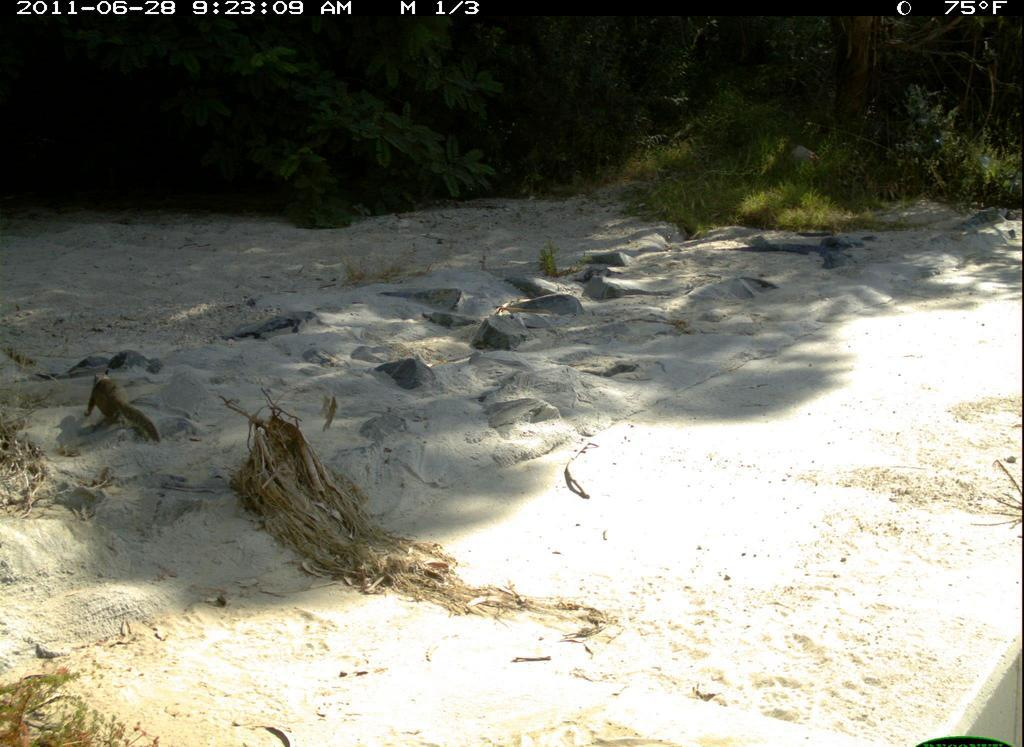squirrel: (79, 361, 171, 447)
